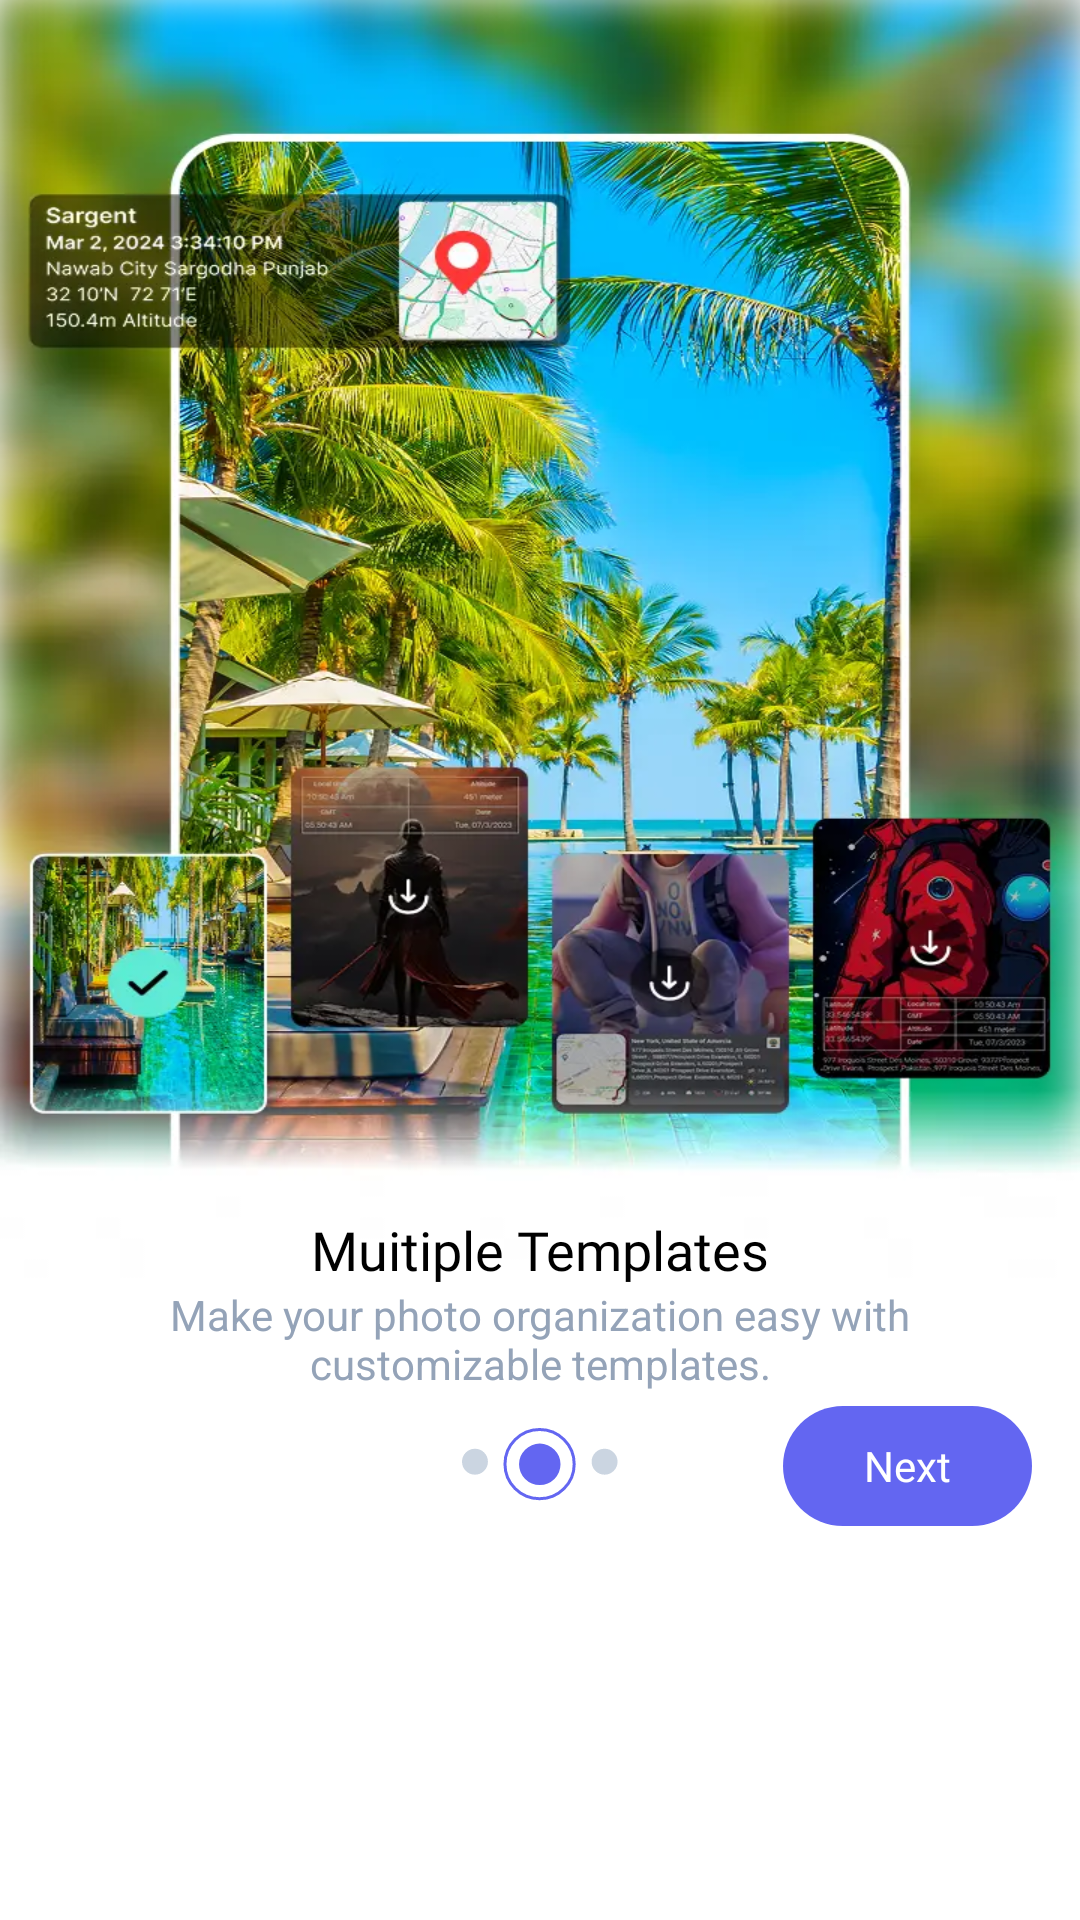

Where to tap for icons on this 1080 x 1920 app screen, as point (x, y):
indicator: point (540, 1464)
